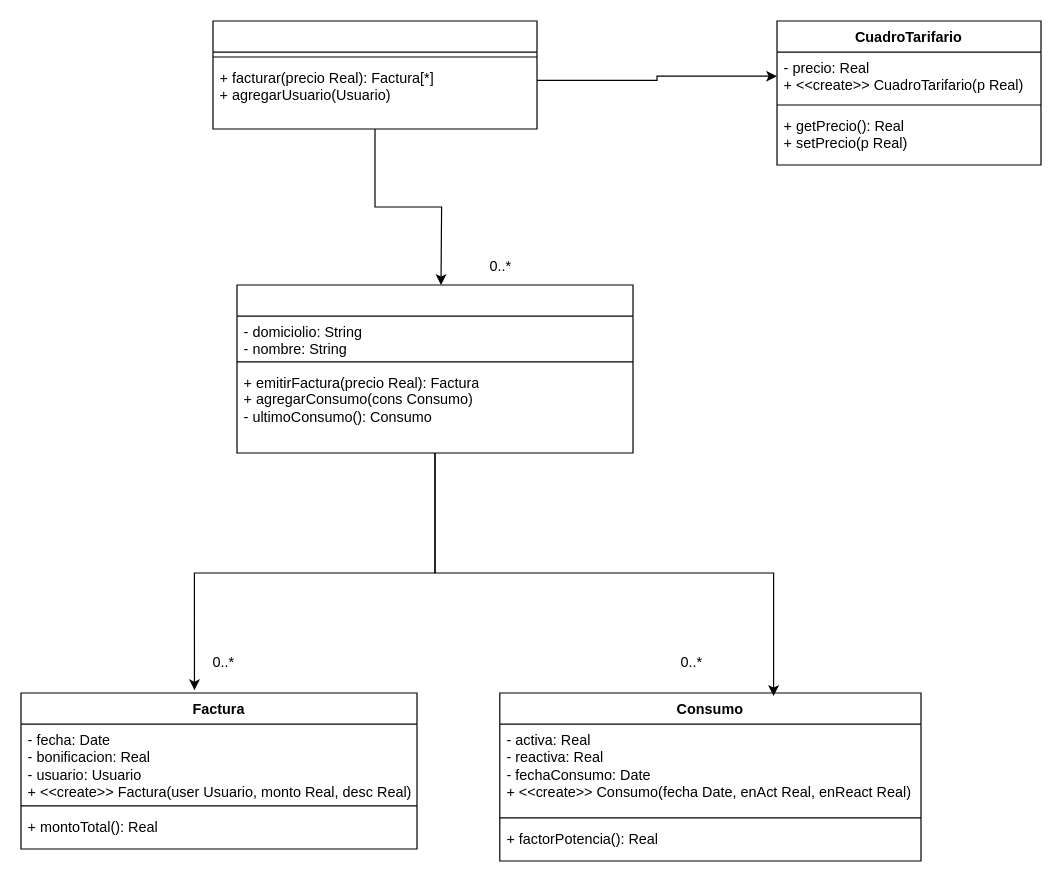
Some shapes in this 1062 by 886 pixel diagram are drawn without their labels. Each missing label, with the box of its shape:
Distribuidora: (212, 20, 537, 129)
Usuario: (236, 284, 633, 453)
